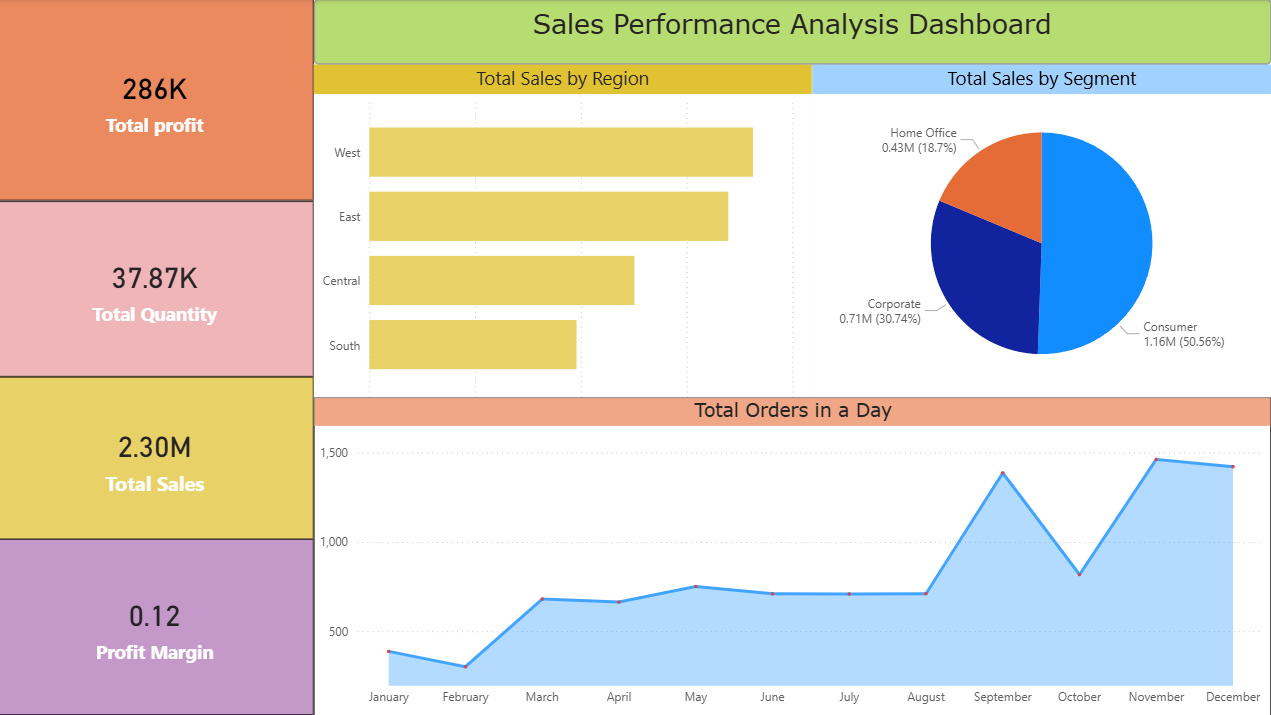

What the dashboard file says about the page in this screenshot:
{"tool":"powerbi","page":{"name":"Page 1","canvas":[1280,720],"ordinal":0},"visuals":[{"type":"card","fields":{"Values":["Sales_data.Total profit"]},"box":[0,0,317.8,202.6],"z":0},{"type":"card","fields":{"Values":["Sales_data.Total Quantity"]},"box":[0,202.6,317.8,176],"z":1000},{"type":"card","fields":{"Values":["Sales_data.Total Sales"]},"box":[0,379.1,317.8,163.5],"z":2000},{"type":"card","fields":{"Values":["Sales_data.Profit Margin"]},"box":[0,542.7,317.8,176.6],"z":3000},{"type":"barChart","fields":{"Y":["Sales_data.Total Sales"],"Category":["Sales_data.Region"]},"box":[318.3,65,500,363.3],"z":4000},{"type":"pieChart","fields":{"Category":["Sales_data.Segment"],"Y":["Sales_data.Total Sales"]},"box":[818.3,65,461.7,335],"z":5000},{"type":"lineChart","title":"Total Orders in a Day","fields":{"Category":["Sales_data.Order Date.Variation.Date Hierarchy.Year","Sales_data.Order Date.Variation.Date Hierarchy.Quarter","Sales_data.Order Date.Variation.Date Hierarchy.Month","Sales_data.Order Date.Variation.Date Hierarchy.Day"],"Y":["CountNonNull(Sales_data.Order Date)"]},"box":[318.3,400,961.7,320],"z":6000},{"type":"textbox","box":[318.2,0,962.2,65.7],"z":7000}]}

Visuals, with their boxes in screenshot pixels (x1, y1, x2, y2), scaled from the page's 1280x720 canvas onto the 1271x715 screenshot:
card - Sales_data.Total profit: [0, 0, 316, 201]
card - Sales_data.Total Quantity: [0, 201, 316, 376]
card - Sales_data.Total Sales: [0, 376, 316, 539]
card - Sales_data.Profit Margin: [0, 539, 316, 714]
barChart - Sales_data.Total Sales x Sales_data.Region: [316, 65, 813, 425]
pieChart - Sales_data.Segment x Sales_data.Total Sales: [813, 65, 1270, 397]
"Total Orders in a Day" lineChart: [316, 397, 1270, 714]
textbox: [316, 0, 1270, 65]
